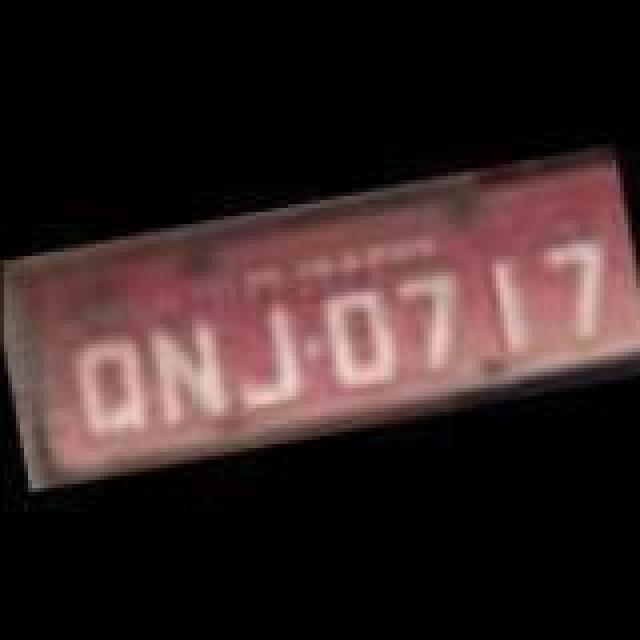1: (474, 250, 538, 362)
7: (534, 230, 622, 350), (390, 268, 470, 380)
J: (222, 302, 310, 410)
N: (144, 314, 228, 434)
O: (314, 280, 402, 392)
Q: (72, 330, 156, 442)
